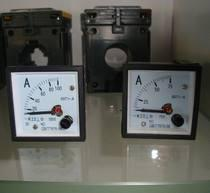pointer: (10, 71, 81, 137), (126, 69, 192, 135)
